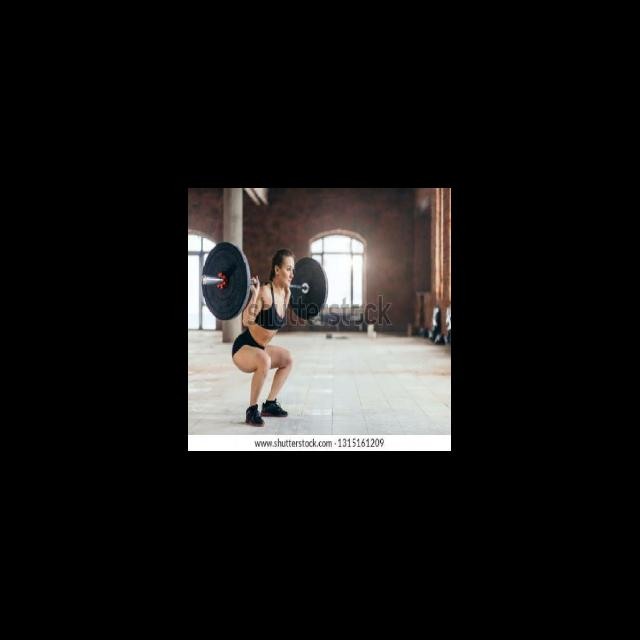barbell: (200, 241, 249, 321)
